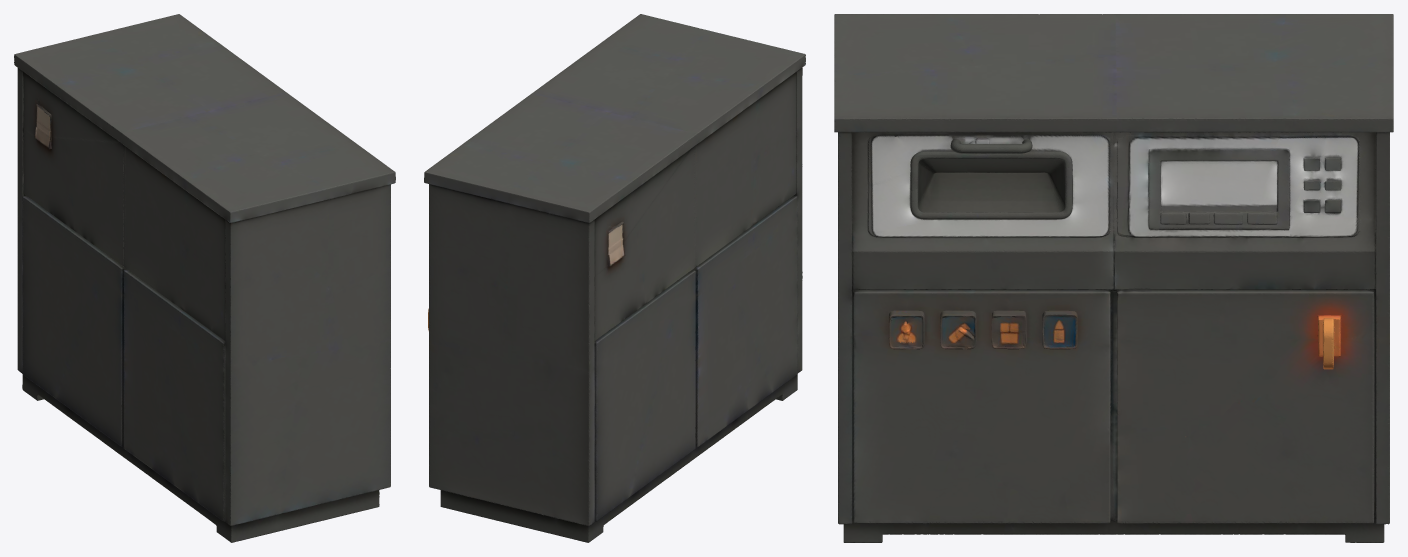
File: kitchen-cabinet-3d-model.glb
3 views of the same model, side by side, from view 1: azimuth 30°, elevation 25°; view 2: azimuth 150°, elevation 25°; view 3: azimuth 270°, elevation 25° (orthographic). The views are drawn at different scales.
Visible parts, largest first — view 1: tripo_node_eca9ec2e-390f-4140-b69f-84b656629c7a; view 2: tripo_node_eca9ec2e-390f-4140-b69f-84b656629c7a; view 3: tripo_node_eca9ec2e-390f-4140-b69f-84b656629c7a.
Boxes of the visible parts, box(x1,y1,x2,y2) form: tripo_node_eca9ec2e-390f-4140-b69f-84b656629c7a: box(14, 14, 395, 542); tripo_node_eca9ec2e-390f-4140-b69f-84b656629c7a: box(424, 14, 805, 542); tripo_node_eca9ec2e-390f-4140-b69f-84b656629c7a: box(834, 14, 1393, 542).
Bounding box in the file's own units: 0.4949 × 0.8539 × 1.
1 material, 1 textured.
